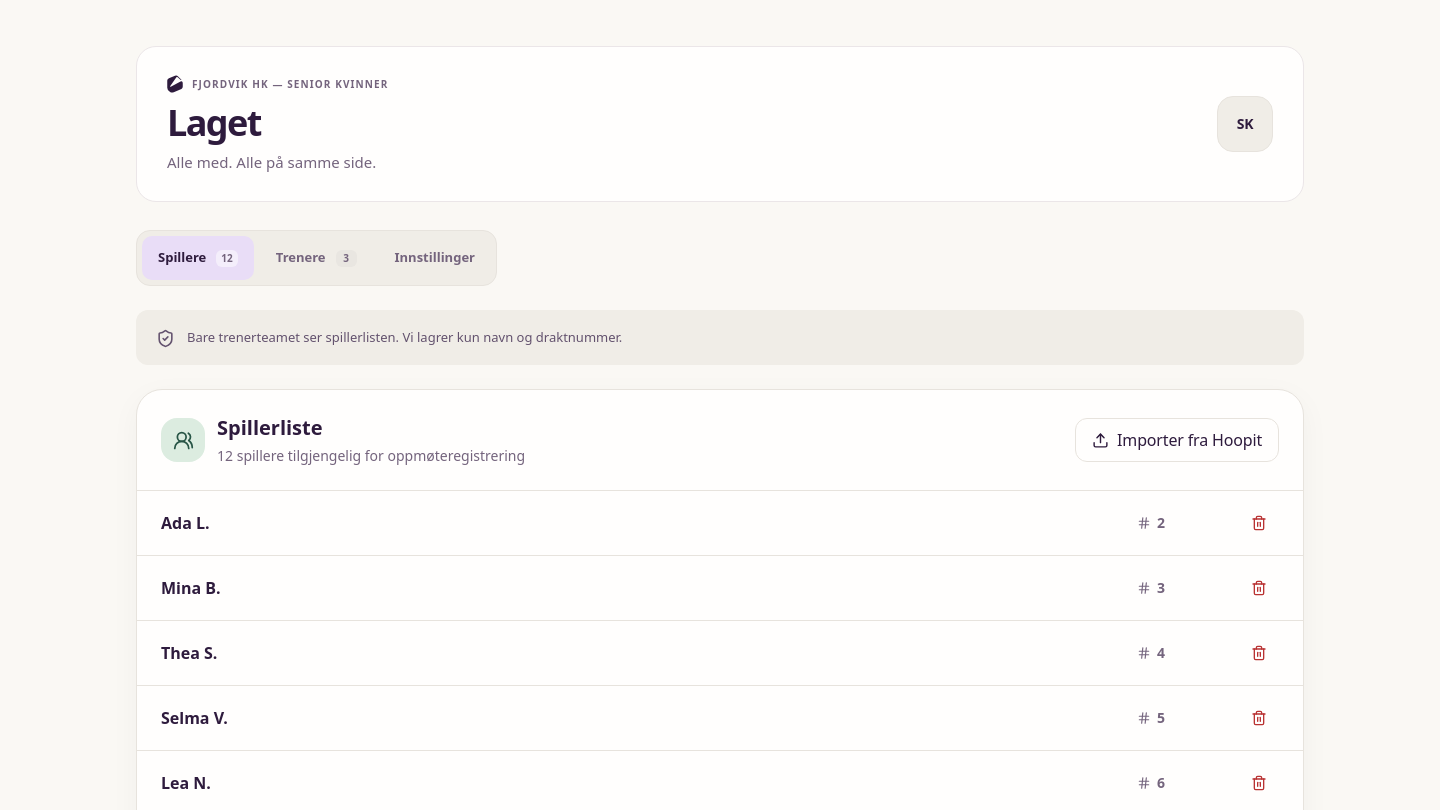
Test: team workspace › shows coaches and invitations in their own view
The image size is (1440, 810).
Click the button "Trenere 3": x=316, y=258 x1=260 y1=236 x2=373 y2=280
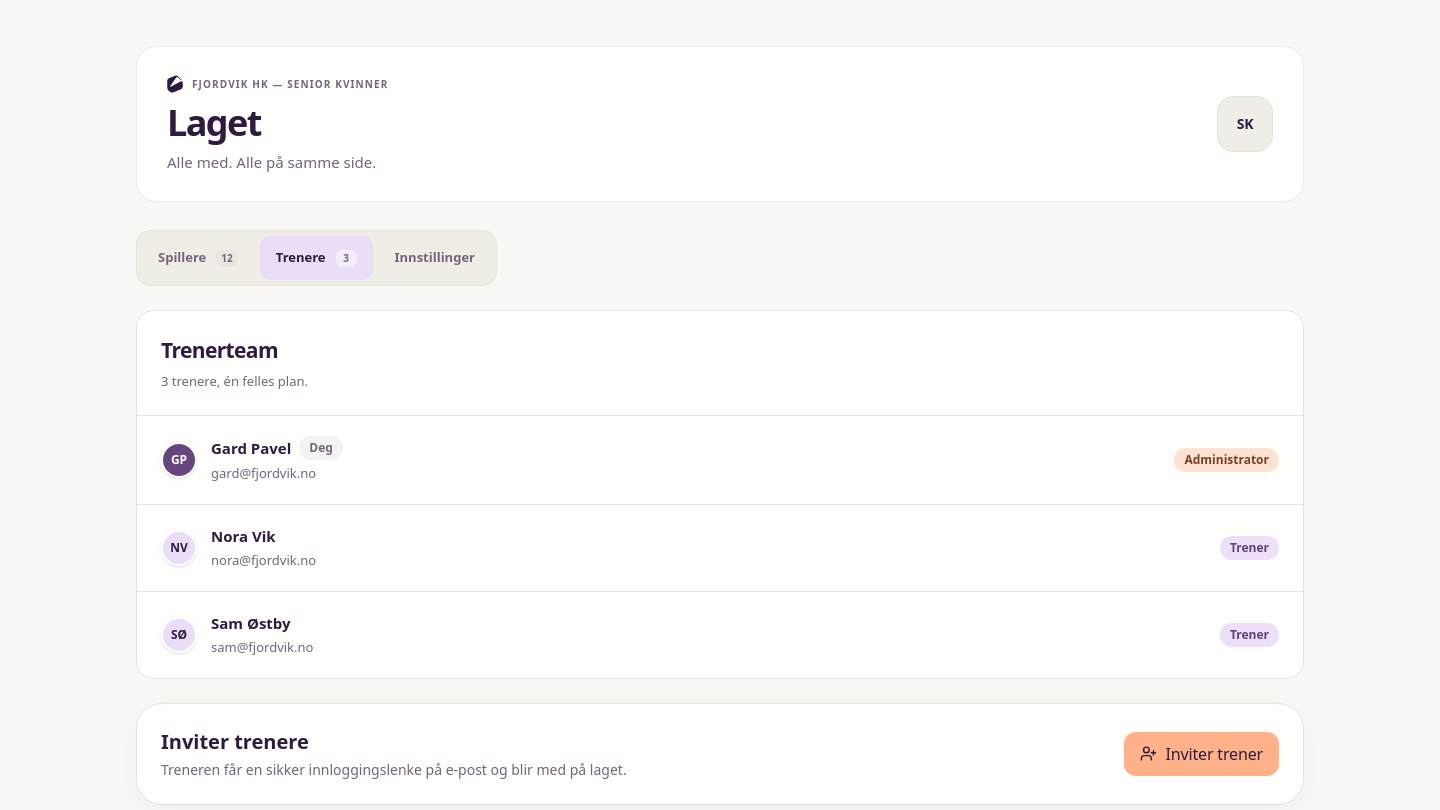
Expected: the heading "Trenerteam" is shown, x1=161 y1=336 x2=278 y2=364
Now the button "Inviter trener" is shown, box x1=1124 y1=732 x2=1279 y2=776
